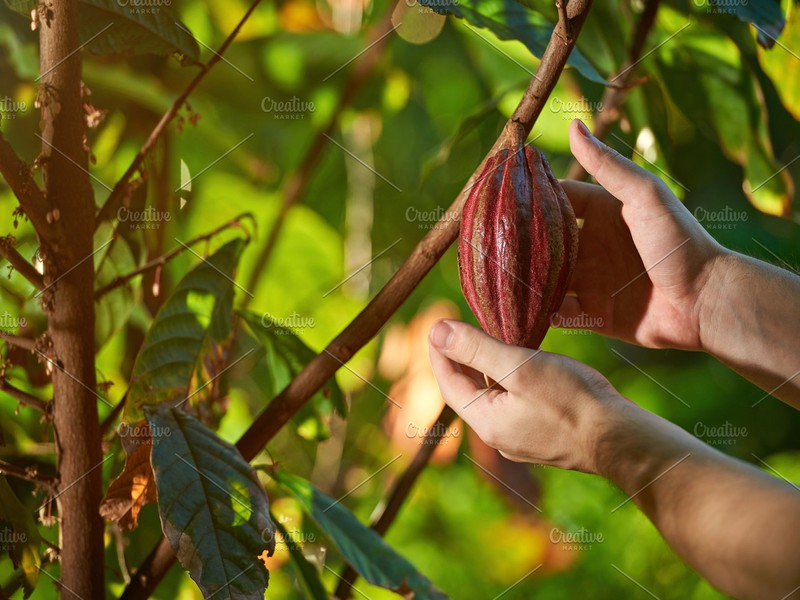Cacaopod: (456, 147, 581, 354)
